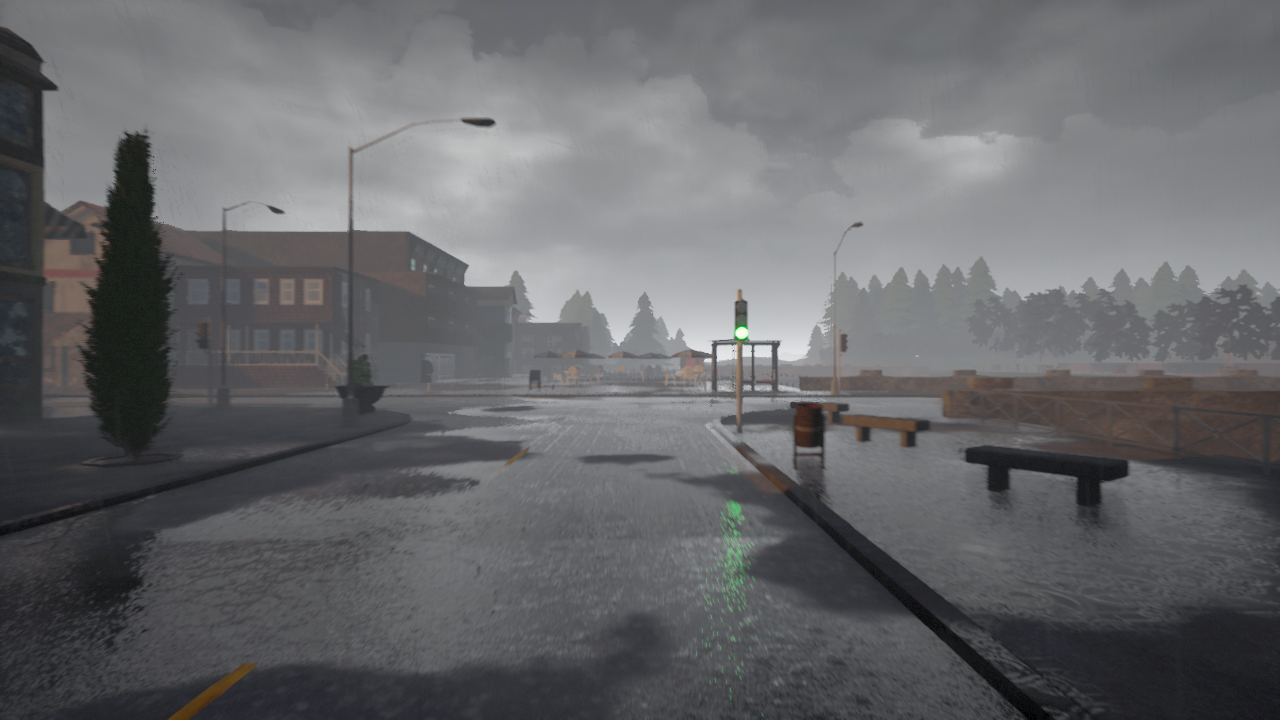green: (733, 301, 750, 342)
